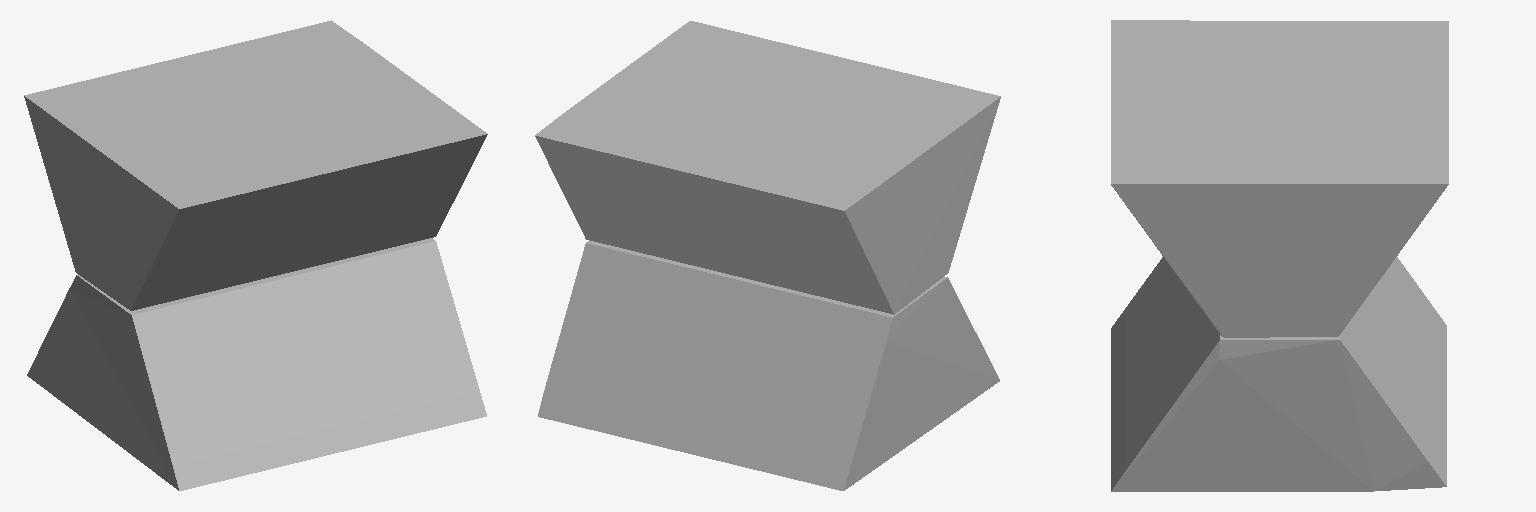
robot.urdf — root:
<robot name="root">
  <link name="link_Double Wedge_convex_piece_0">
    <inertial>
      <origin xyz="0 0 0" rpy="0 0 0"/>
      <mass value="1.30E-01"/>
      <inertia ixx="1.13E-04" ixy="1.02E-07" ixz="-1.24E-07" iyy="1.60E-04" iyz="4.01E-08" izz="1.16E-04"/>
    </inertial>
    <visual>
      <origin xyz="0 0 0" rpy="0 0 0"/>
      <geometry>
        <mesh filename="Double Wedge_convex_piece_0.obj" scale="1.0000E+00 1.0000E+00 1.0000E+00"/>
      </geometry>
      <material name="">
        <color rgba="7.50E-01 7.50E-01 7.50E-01 1"/>
      </material>
    </visual>
    <collision>
      <origin xyz="0 0 0" rpy="0 0 0"/>
      <geometry>
        <mesh filename="Double Wedge_convex_piece_0.obj" scale="1.0000E+00 1.0000E+00 1.0000E+00"/>
      </geometry>
    </collision>
  </link>
  <link name="link_Double Wedge_convex_piece_1">
    <inertial>
      <origin xyz="0 0 0" rpy="0 0 0"/>
      <mass value="1.28E-01"/>
      <inertia ixx="1.11E-04" ixy="-4.82E-08" ixz="7.34E-07" iyy="1.56E-04" iyz="-7.79E-07" izz="1.14E-04"/>
    </inertial>
    <visual>
      <origin xyz="0 0 0" rpy="0 0 0"/>
      <geometry>
        <mesh filename="Double Wedge_convex_piece_1.obj" scale="1.0000E+00 1.0000E+00 1.0000E+00"/>
      </geometry>
      <material name="">
        <color rgba="7.50E-01 7.50E-01 7.50E-01 1"/>
      </material>
    </visual>
    <collision>
      <origin xyz="0 0 0" rpy="0 0 0"/>
      <geometry>
        <mesh filename="Double Wedge_convex_piece_1.obj" scale="1.0000E+00 1.0000E+00 1.0000E+00"/>
      </geometry>
    </collision>
  </link>
  <joint name="link_Double Wedge_convex_piece_1_joint" type="fixed">
    <origin xyz="0 0 0" rpy="0 0 0"/>
    <parent link="link_Double Wedge_convex_piece_0"/>
    <child link="link_Double Wedge_convex_piece_1"/>
  </joint>
</robot>

--- Facts derived from the render (not from the file) ---
Views: 3 orthographic renders of the robot side by side, from view 1: azimuth 30°, elevation 25°; view 2: azimuth 150°, elevation 25°; view 3: azimuth 270°, elevation 25°.
Robot: root — 2 links, 1 joints (1 fixed); root link link_Double Wedge_convex_piece_0; default pose: all joints at 0.
Visible links, largest first — view 1: link_Double Wedge_convex_piece_0, link_Double Wedge_convex_piece_1; view 2: link_Double Wedge_convex_piece_0, link_Double Wedge_convex_piece_1; view 3: link_Double Wedge_convex_piece_0, link_Double Wedge_convex_piece_1.
Boxes of the visible links, x1=… form: link_Double Wedge_convex_piece_0: x1=24, y1=20, x2=487, y2=310; link_Double Wedge_convex_piece_1: x1=27, y1=238, x2=486, y2=490; link_Double Wedge_convex_piece_0: x1=535, y1=21, x2=1000, y2=314; link_Double Wedge_convex_piece_1: x1=538, y1=240, x2=999, y2=490; link_Double Wedge_convex_piece_0: x1=1111, y1=20, x2=1448, y2=337; link_Double Wedge_convex_piece_1: x1=1111, y1=257, x2=1446, y2=491.
Bounding box of the posed robot: 0.0869 × 0.0758 × 0.0759 m (x, y, z).
Meshes: 2 distinct files referenced, 2 mesh visuals loaded (2 OBJ).
